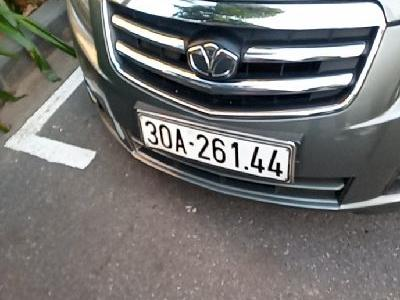lisence: (137, 113, 297, 187)
